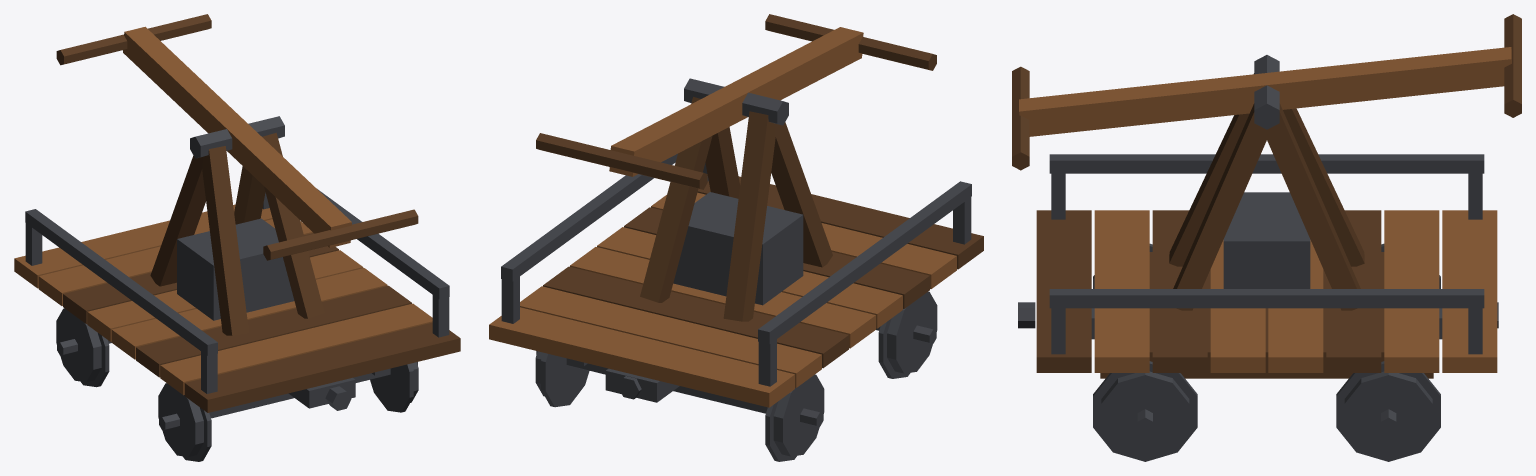
The model's file is mine_handcar.glb.
The picture shows the model from 3 angles, left to right: view 1: azimuth 30°, elevation 25°; view 2: azimuth 150°, elevation 25°; view 3: azimuth 270°, elevation 25°; orthographic projection. The views are drawn at different scales.
Parts seen in each view (by area): view 1: mine_handcar; view 2: mine_handcar; view 3: mine_handcar.
Part boxes in pixels (left/top/right/bottom): mine_handcar: left=14, top=14, right=460, bottom=461; mine_handcar: left=489, top=14, right=983, bottom=461; mine_handcar: left=1012, top=14, right=1521, bottom=461.
Bounding box in the file's own units: 1.2 × 1.33 × 1.76.
